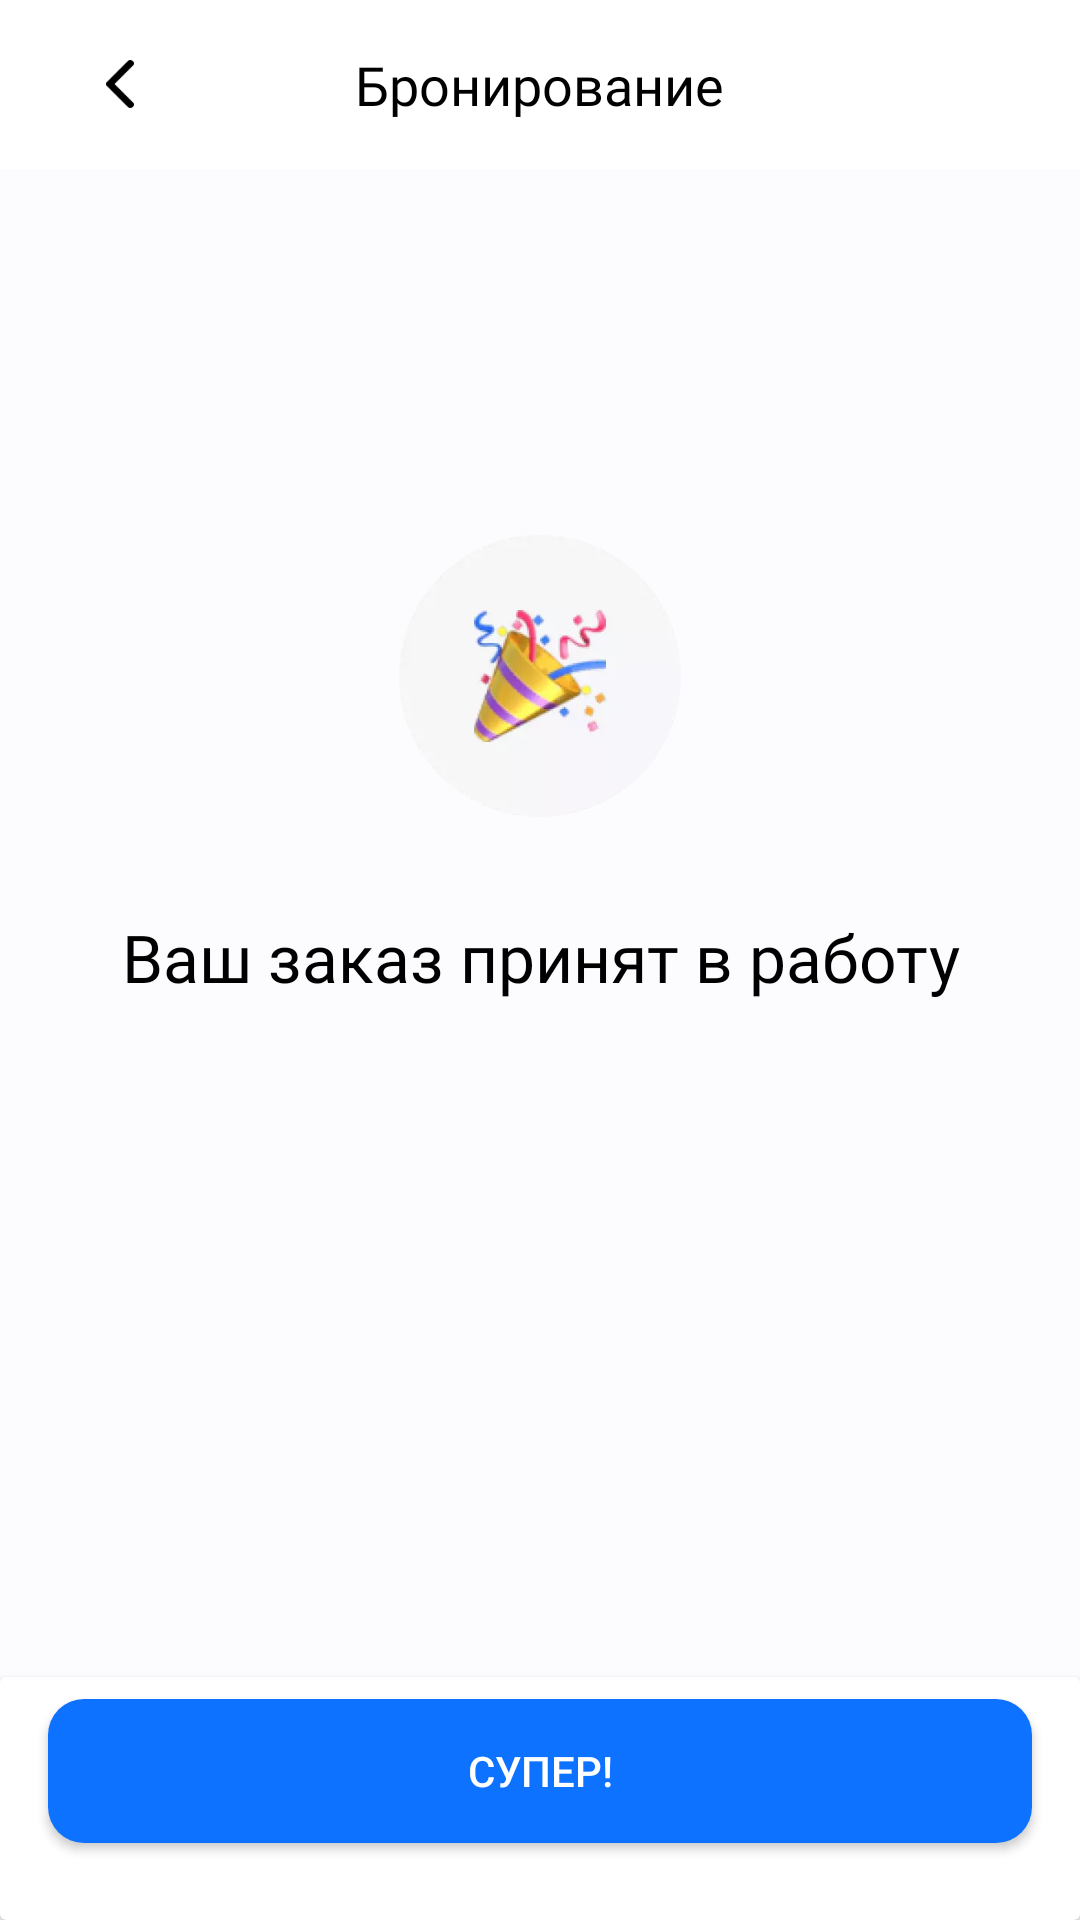

Icon click points for this 1080px×1920px phone screenshot, format (x=x, y=y):
back: (x=120, y=84)
